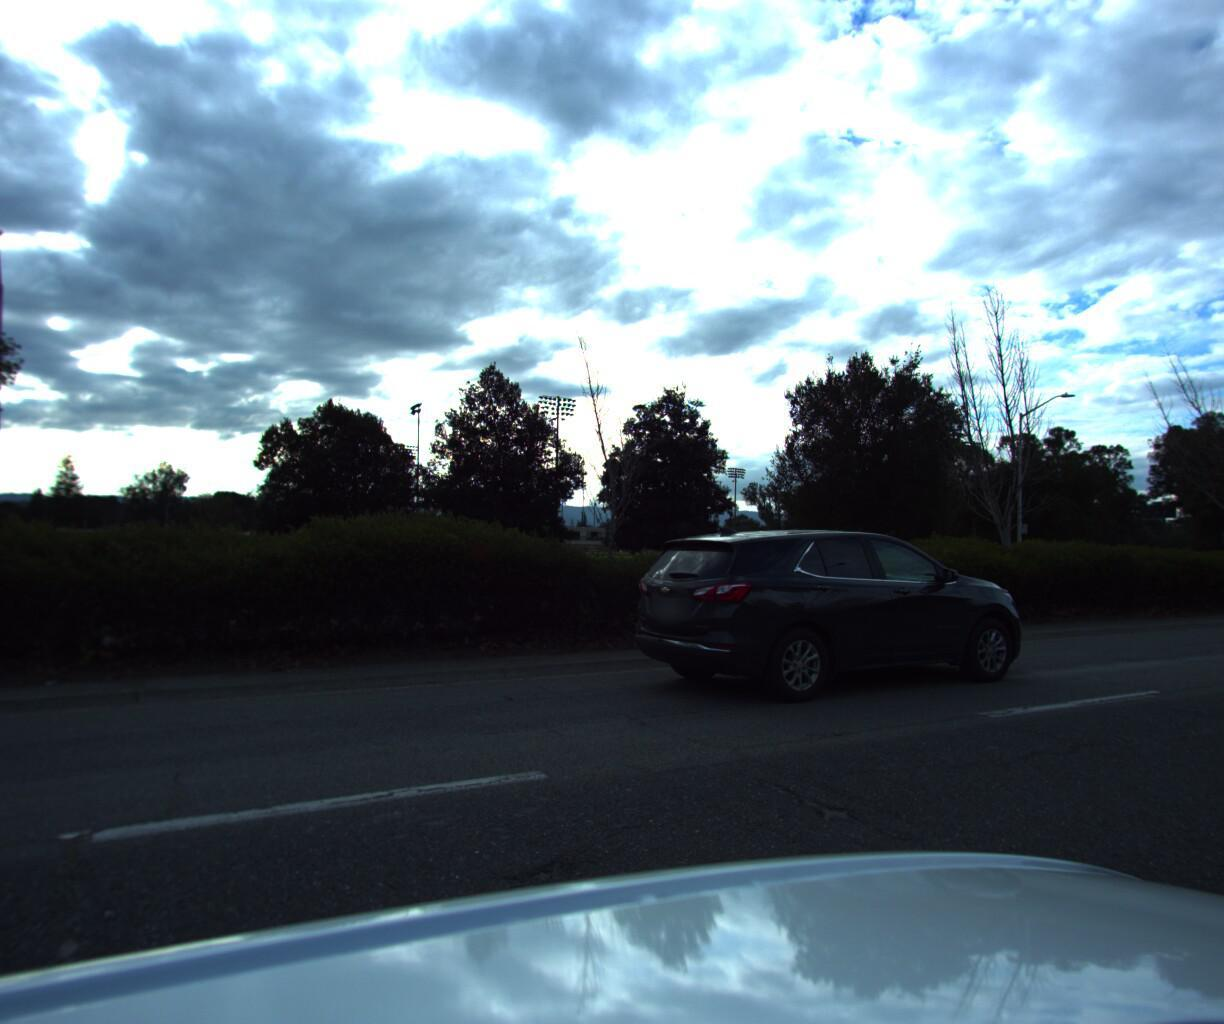car: (612, 529, 1043, 716)
